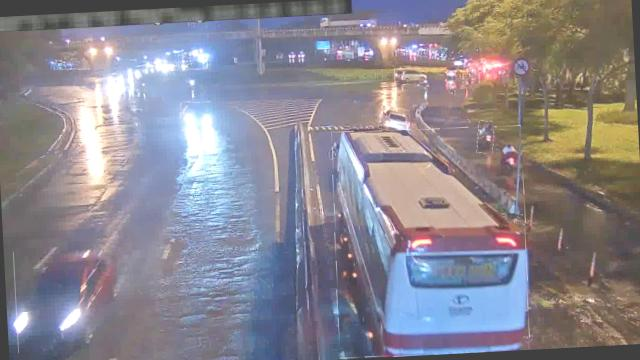Bike: (496, 135, 516, 169), (476, 120, 494, 154)
Bus: (328, 122, 532, 358)
Car: (13, 246, 118, 353), (180, 101, 211, 132), (378, 105, 409, 133), (393, 67, 428, 85)
